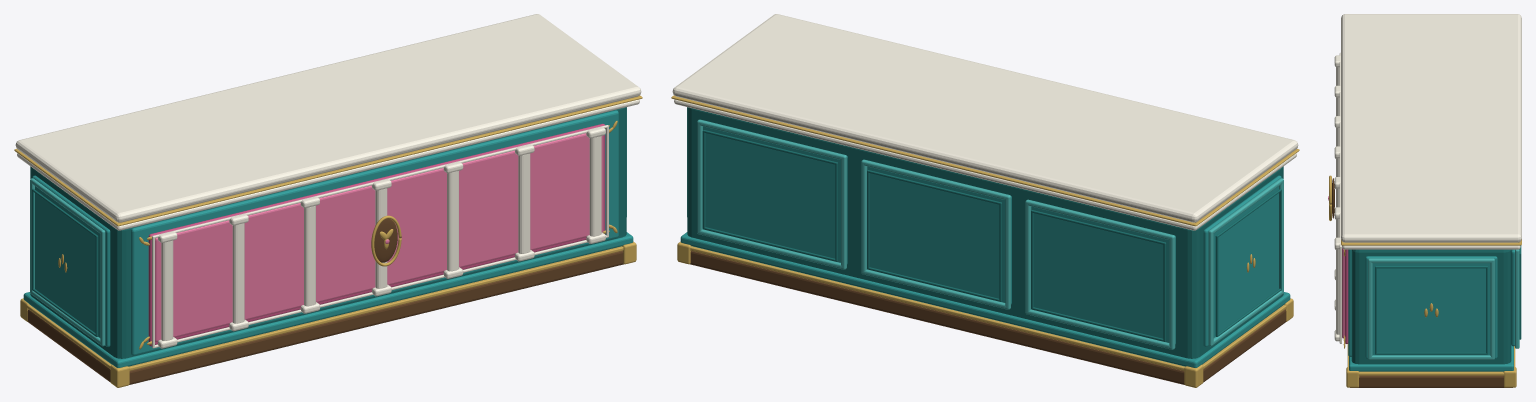
The model's file is counter_cabinet.glb.
3 views of the same model, side by side, from view 1: azimuth 30°, elevation 25°; view 2: azimuth 150°, elevation 25°; view 3: azimuth 270°, elevation 25° (orthographic). The views are drawn at different scales.
Visible parts, largest first — view 1: Cream_rounded_worktop, Front_pink_panel, Front_teal_frame, Stepped_wood_plinth, Side_teal_panel, Lower_teal_molding, Teal_carcass, Cream_worktop_lower, Plinth_gold_band, Front_pink_shadow, Worktop_brass_inlay, Front_cream_bead_horizontal.001 (+10 smaller); view 2: Cream_rounded_worktop, Teal_carcass, Rear_recess_1, Rear_recess_0, Rear_recess_2, Stepped_wood_plinth, Side_teal_panel, Lower_teal_molding, Cream_worktop_lower, Plinth_gold_band, Worktop_brass_inlay, Rear_molded_border_horizontal.001 (+12 smaller); view 3: Cream_rounded_worktop, Side_teal_panel.001, Teal_carcass, Stepped_wood_plinth, Lower_teal_molding, Cream_worktop_lower, Plinth_gold_band, Side_raised_frame_horizontal.003, Worktop_brass_inlay, Side_raised_frame_horizontal.002, Side_raised_frame_vertical.003, Side_raised_frame_vertical.002 (+13 smaller).
Part boxes in pixels (x1=…): Cream_rounded_worktop: x1=15, y1=14, x2=641, y2=222; Front_pink_panel: x1=155, y1=133, x2=603, y2=341; Front_teal_frame: x1=131, y1=110, x2=618, y2=355; Stepped_wood_plinth: x1=27, y1=251, x2=623, y2=384; Side_teal_panel: x1=32, y1=175, x2=110, y2=346; Lower_teal_molding: x1=23, y1=232, x2=633, y2=367; Teal_carcass: x1=30, y1=107, x2=626, y2=358; Cream_worktop_lower: x1=17, y1=99, x2=639, y2=230; Plinth_gold_band: x1=27, y1=246, x2=623, y2=370; Front_pink_shadow: x1=148, y1=123, x2=605, y2=346; Worktop_brass_inlay: x1=14, y1=95, x2=642, y2=226; Front_cream_bead_horizontal.001: x1=152, y1=125, x2=608, y2=238; Cream_rounded_worktop: x1=672, y1=14, x2=1298, y2=222; Teal_carcass: x1=687, y1=107, x2=1283, y2=358; Rear_recess_1: x1=867, y1=166, x2=1011, y2=304; Rear_recess_0: x1=1031, y1=206, x2=1175, y2=344; Rear_recess_2: x1=703, y1=126, x2=847, y2=264; Stepped_wood_plinth: x1=690, y1=251, x2=1286, y2=384; Side_teal_panel: x1=1203, y1=175, x2=1281, y2=346; Lower_teal_molding: x1=680, y1=232, x2=1290, y2=367; Cream_worktop_lower: x1=674, y1=99, x2=1296, y2=230; Plinth_gold_band: x1=690, y1=246, x2=1286, y2=370; Worktop_brass_inlay: x1=671, y1=95, x2=1299, y2=226; Rear_molded_border_horizontal.001: x1=1025, y1=199, x2=1175, y2=239; Cream_rounded_worktop: x1=1341, y1=14, x2=1521, y2=242; Side_teal_panel.001: x1=1365, y1=256, x2=1497, y2=358; Teal_carcass: x1=1351, y1=249, x2=1511, y2=364; Stepped_wood_plinth: x1=1350, y1=375, x2=1512, y2=387; Lower_teal_molding: x1=1349, y1=345, x2=1513, y2=371; Cream_worktop_lower: x1=1342, y1=245, x2=1520, y2=249; Plinth_gold_band: x1=1347, y1=344, x2=1515, y2=375; Side_raised_frame_horizontal.003: x1=1368, y1=258, x2=1494, y2=263; Worktop_brass_inlay: x1=1341, y1=239, x2=1521, y2=245; Side_raised_frame_horizontal.002: x1=1368, y1=355, x2=1494, y2=359; Side_raised_frame_vertical.003: x1=1368, y1=258, x2=1372, y2=359; Side_raised_frame_vertical.002: x1=1490, y1=259, x2=1494, y2=359.
Bounding box in the file's own units: 3.09 × 0.98 × 1.11.
